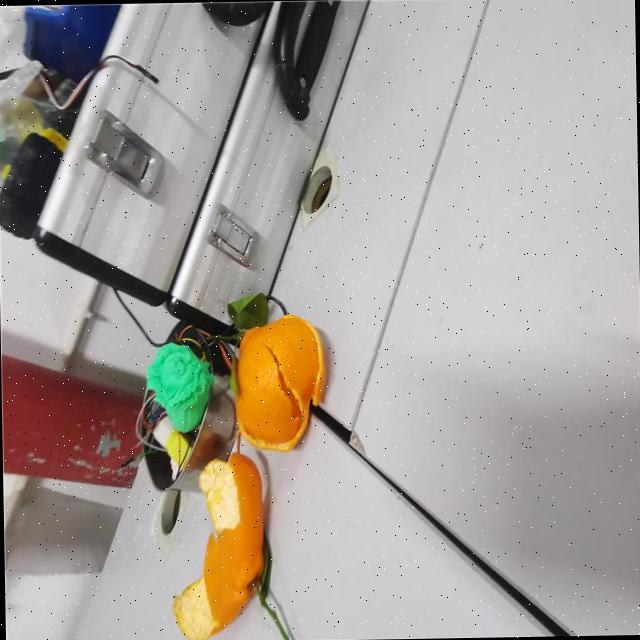orange-peel: (231, 312, 327, 452)
